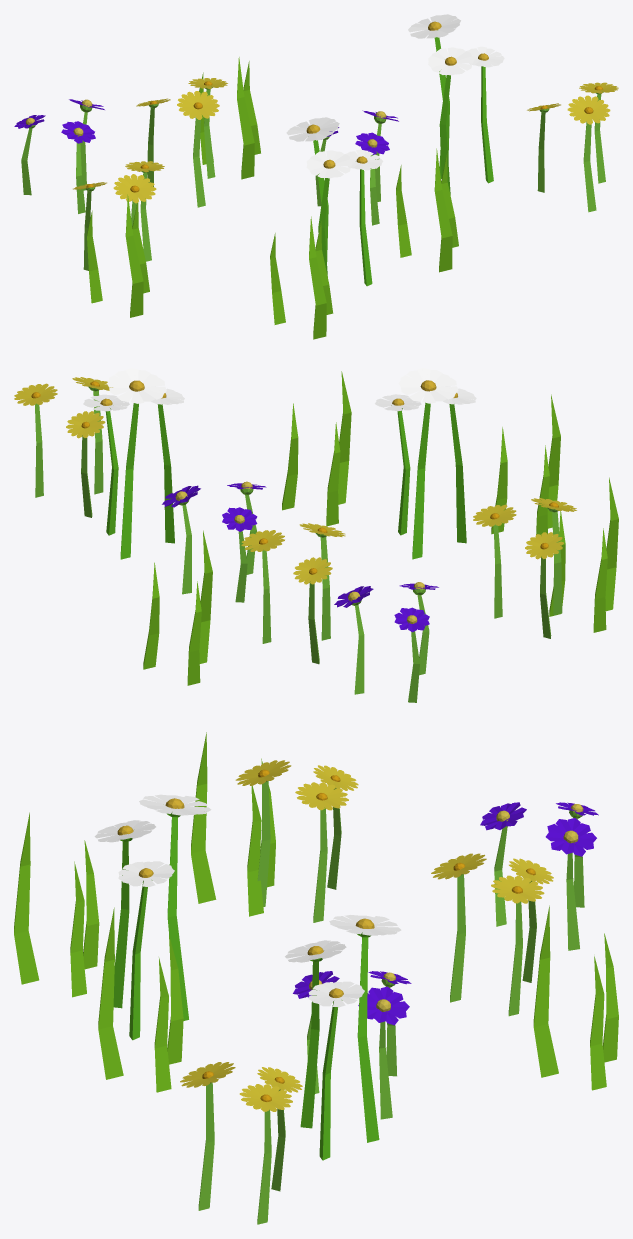
Rendered from flower.obj.
3 views of the same model, one above another, from view 1: azimuth 30°, elevation 25°; view 2: azimuth 150°, elevation 25°; view 3: azimuth 270°, elevation 25° (orthographic). The views are drawn at different scales.
Parts seen in each view (by area): view 1: Cylinder, Cylinder.002, Cylinder.002_Cylinder.002, Cylinder.002_Cylinder.003, Cylinder.001, Cylinder.003, Cylinder.004, Cylinder.002_Cylinder.001, Cylinder.003_Cylinder.005, Cylinder.005, Cylinder.003_Cylinder.001; view 2: Cylinder.002, Cylinder, Cylinder.002_Cylinder.003, Cylinder.002_Cylinder.001, Cylinder.002_Cylinder.002, Cylinder.003_Cylinder.005, Cylinder.005, Cylinder.001, Cylinder.003_Cylinder.001, Cylinder.003, Cylinder.004; view 3: Cylinder, Cylinder.002, Cylinder.002_Cylinder.002, Cylinder.002_Cylinder.003, Cylinder.002_Cylinder.001, Cylinder.001, Cylinder.004, Cylinder.005, Cylinder.003_Cylinder.005, Cylinder.003, Cylinder.003_Cylinder.001.
Boxes of the visible parts, x1,y1,x2,y2 form: Cylinder: (408,14,504,194); Cylinder.002: (286,117,383,286); Cylinder.002_Cylinder.002: (527,82,618,212); Cylinder.002_Cylinder.003: (136,78,227,207); Cylinder.001: (396,148,458,272); Cylinder.003: (87,194,149,317); Cylinder.004: (270,216,333,339); Cylinder.002_Cylinder.001: (73,161,164,270); Cylinder.003_Cylinder.005: (14,99,104,213); Cylinder.005: (199,57,260,179); Cylinder.003_Cylinder.001: (315,110,398,225); Cylinder.002: (375,368,476,559); Cylinder: (83,368,184,559); Cylinder.002_Cylinder.003: (241,523,345,664); Cylinder.002_Cylinder.001: (473,498,576,638); Cylinder.002_Cylinder.002: (14,377,112,517); Cylinder.003_Cylinder.005: (334,582,438,702); Cylinder.005: (143,530,212,685); Cylinder.001: (282,371,351,526); Cylinder.003_Cylinder.001: (162,481,266,602); Cylinder.003: (549,477,618,632); Cylinder.004: (491,394,560,535); Cylinder: (285,915,401,1160); Cylinder.002: (94,794,211,1040); Cylinder.002_Cylinder.002: (180,1062,302,1224); Cylinder.002_Cylinder.003: (431,853,553,1016); Cylinder.002_Cylinder.001: (235,760,358,922); Cylinder.001: (98,907,183,1092); Cylinder.004: (14,812,99,997); Cylinder.005: (533,905,618,1090); Cylinder.003_Cylinder.005: (480,802,598,950); Cylinder.003: (191,732,275,916); Cylinder.003_Cylinder.001: (293,971,411,1119).
Size of the model in its own units: 1.84 by 0.5779 by 1.35.
